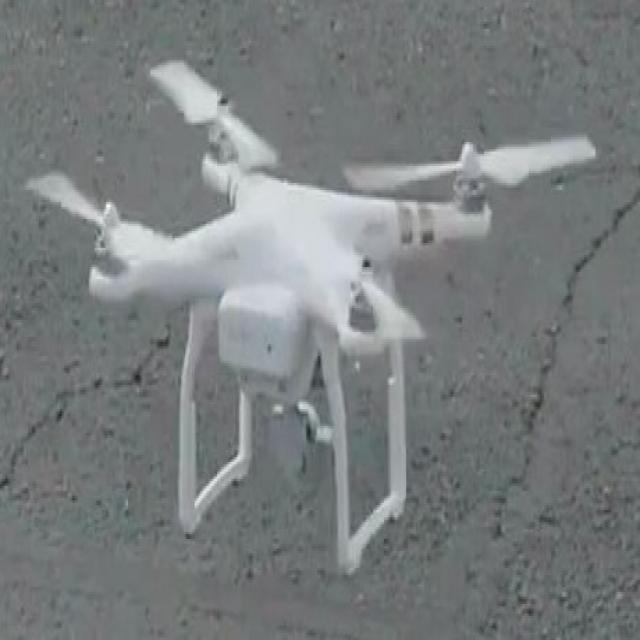drone: (15, 47, 611, 582)
